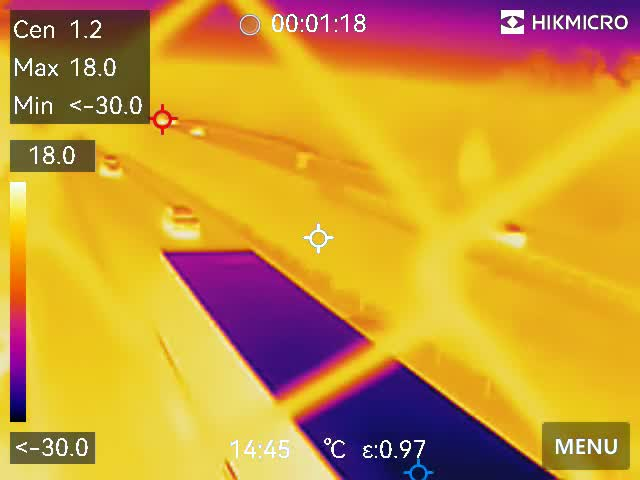heavyTruck: (153, 247, 602, 480)
largeCar: (163, 203, 200, 237)
vehicle: (489, 215, 532, 252), (91, 152, 126, 178), (185, 123, 209, 138)
